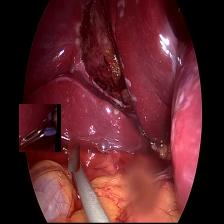Bipolar: (19, 104, 61, 152)
Irrigator: (68, 142, 80, 172)
